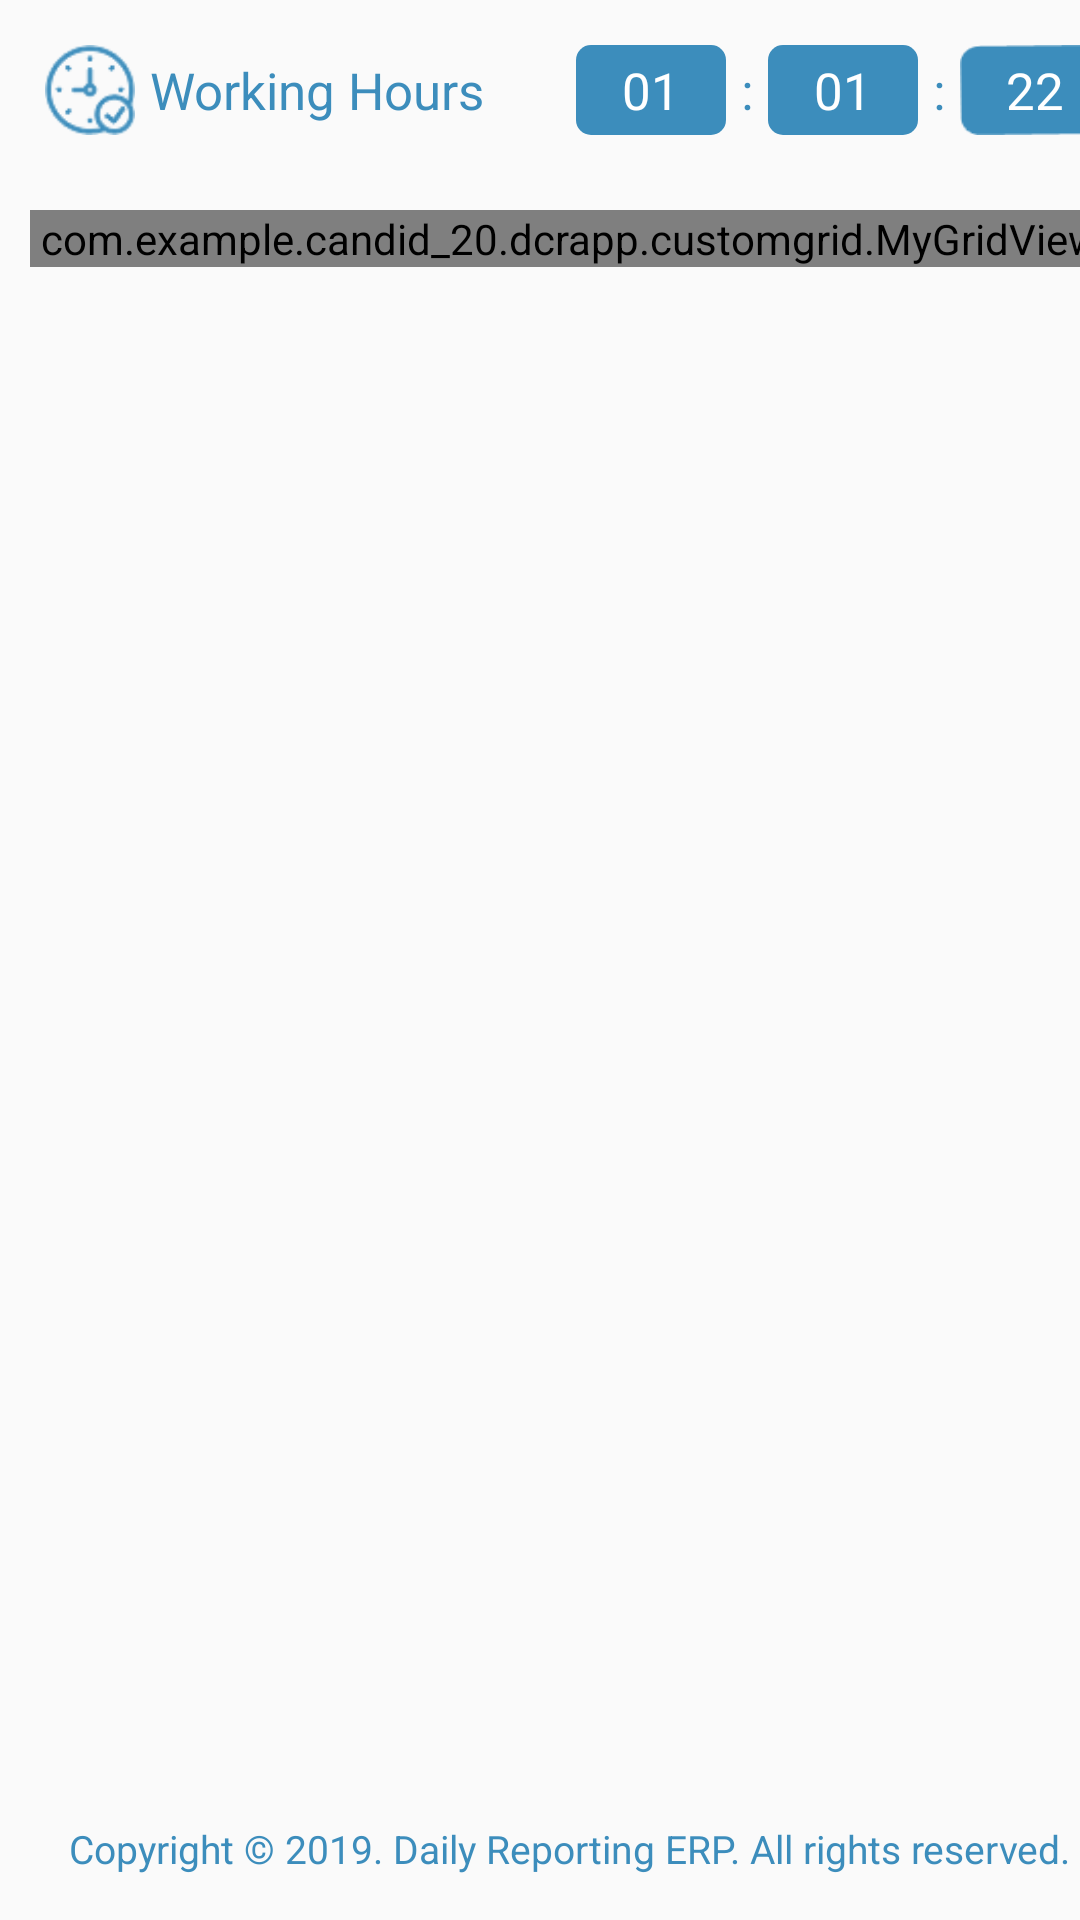

Named icons in this screenshot (1080px x 1920px) and their bounding boxes, (x1, y1, x2, y2):
timer: (45, 45, 135, 135)
